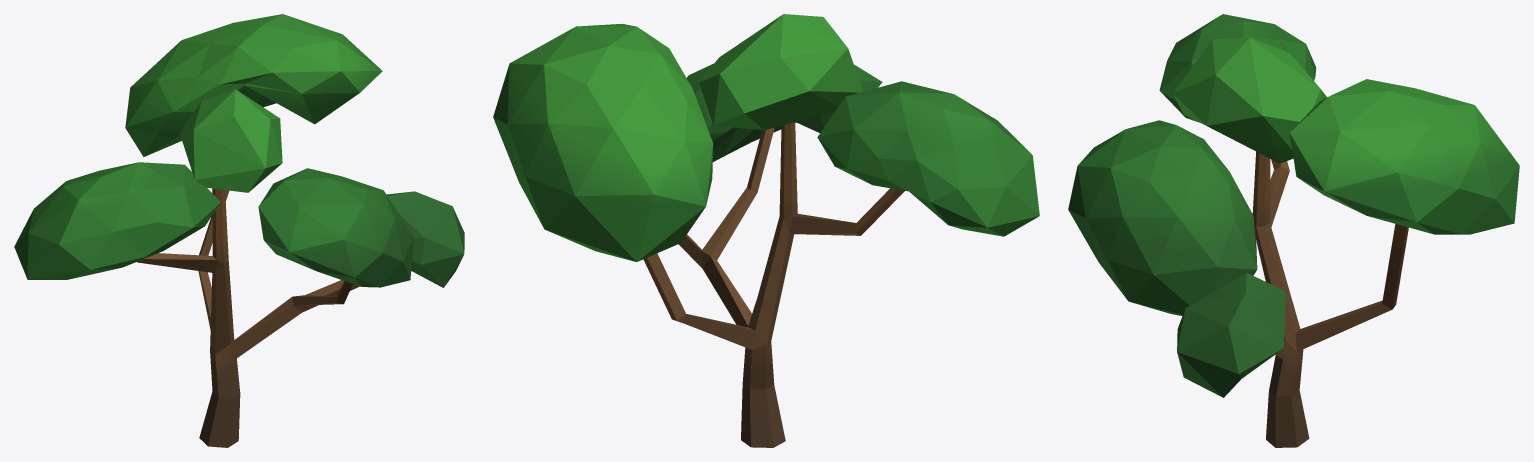
File: um_tree005.FBX
3 views of the same model, side by side, from view 1: azimuth 30°, elevation 25°; view 2: azimuth 150°, elevation 25°; view 3: azimuth 270°, elevation 25° (orthographic). The views are drawn at different scales.
Visible parts, largest first — view 1: um_tree005; view 2: um_tree005; view 3: um_tree005.
Boxes of the visible parts, x1,y1,x2,y2 form: um_tree005: [14, 14, 464, 447]; um_tree005: [493, 14, 1039, 447]; um_tree005: [1068, 14, 1519, 447].
Size of the model in its own units: 3.01 by 2.37 by 2.41.
